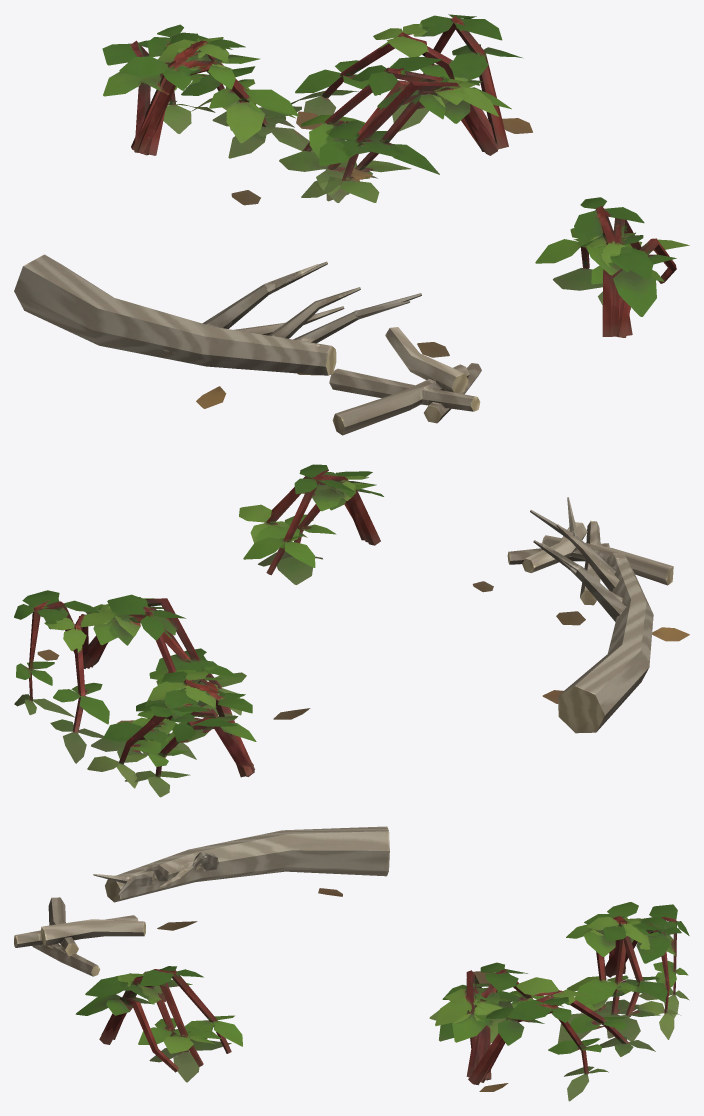
Rendered from rough-forest-3.hq.glb.
3 views of the same model, one above another, from view 1: azimuth 30°, elevation 25°; view 2: azimuth 150°, elevation 25°; view 3: azimuth 270°, elevation 25° (orthographic). The views are drawn at different scales.
Visible parts, largest first — view 1: rough-forest-3; view 2: rough-forest-3; view 3: rough-forest-3.
Boxes of the visible parts, left/top/right/bottom form: rough-forest-3: left=14, top=14, right=689, bottom=435; rough-forest-3: left=14, top=464, right=689, bottom=797; rough-forest-3: left=14, top=826, right=689, bottom=1101.
Bounding box in the file's own units: 1.31 × 0.2421 × 1.59.
Materials: 1 (1 with a texture image).
